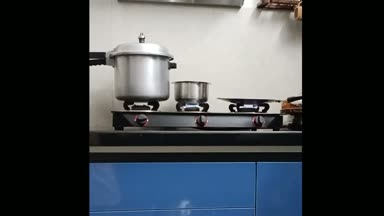flame_gas_off: (121, 98, 157, 127)
flame_gas_on: (234, 102, 267, 130), (179, 102, 211, 127)
